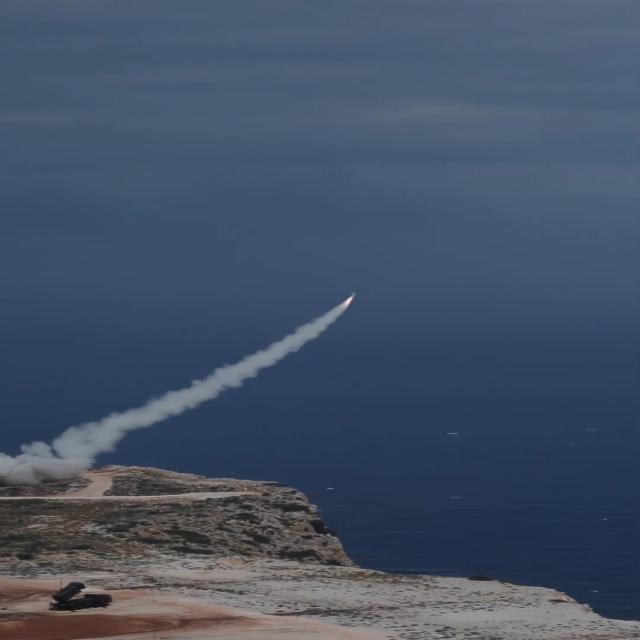Missile: (348, 292, 357, 298)
